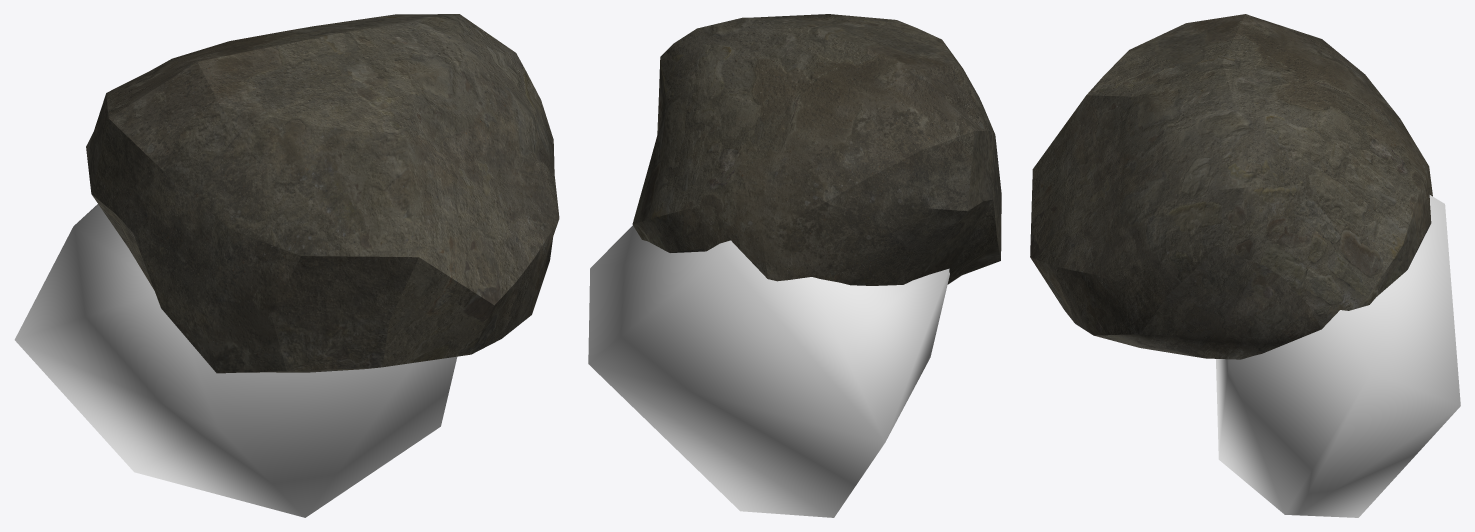
Rendered from SM_Rock.fbx.
3 renders of one model, left to right at view 1: azimuth 30°, elevation 25°; view 2: azimuth 150°, elevation 25°; view 3: azimuth 270°, elevation 25°, orthographic. The views are drawn at different scales.
Parts seen in each view (by area): view 1: SM_Rock, SM_Rock_ConvexHulls; view 2: SM_Rock, SM_Rock_ConvexHulls; view 3: SM_Rock, SM_Rock_ConvexHulls.
Boxes of the visible parts, x1,y1,x2,y2 form: SM_Rock: (86, 14, 559, 373); SM_Rock_ConvexHulls: (14, 204, 457, 517); SM_Rock: (632, 14, 1001, 285); SM_Rock_ConvexHulls: (588, 225, 949, 517); SM_Rock: (1030, 14, 1432, 359); SM_Rock_ConvexHulls: (1216, 195, 1460, 517).
Size of the model in its own units: 0.0369 by 0.0457 by 0.0398.
